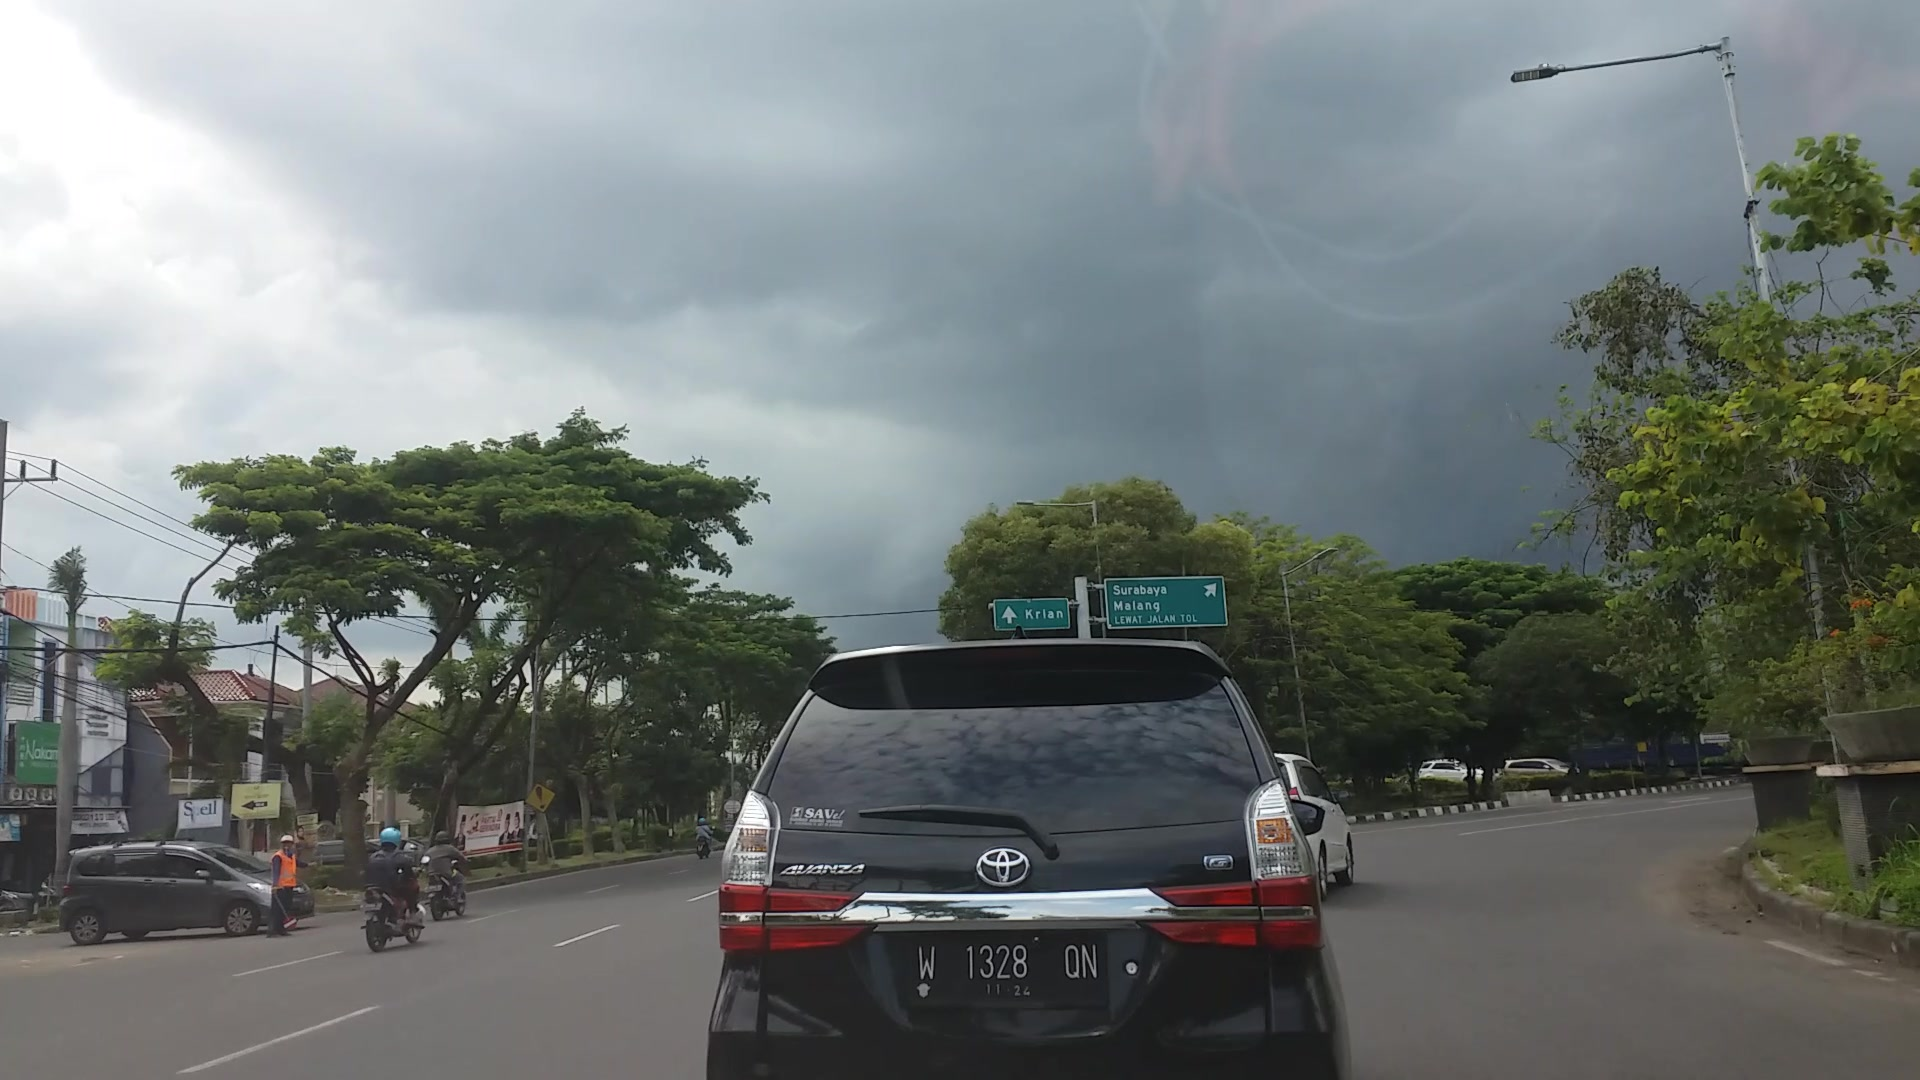plate_positive: (911, 932, 1102, 1001)
